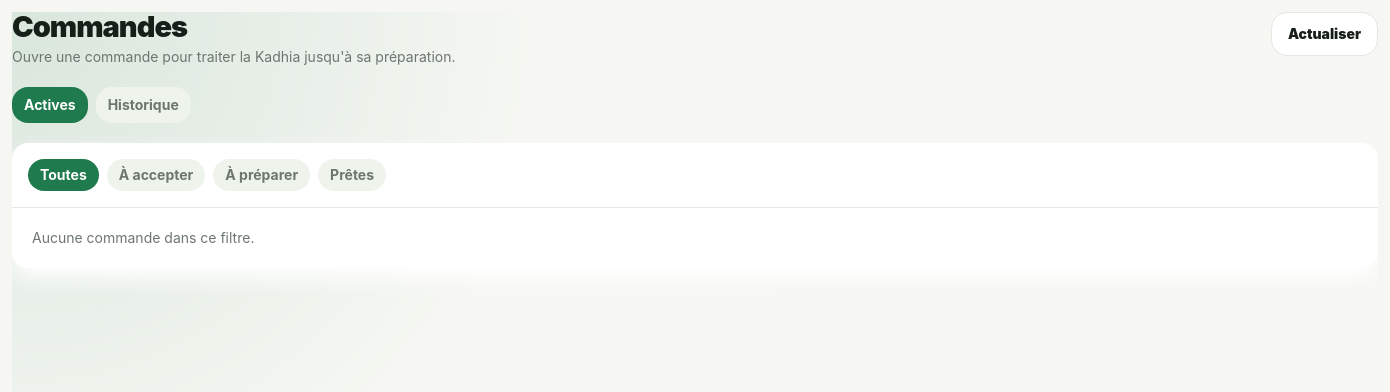
MerchantOrdersPage › renders a dedicated history error
The image size is (1390, 392).
Click the tab "Historique".
click(143, 105)  # box [96,87,191,123]
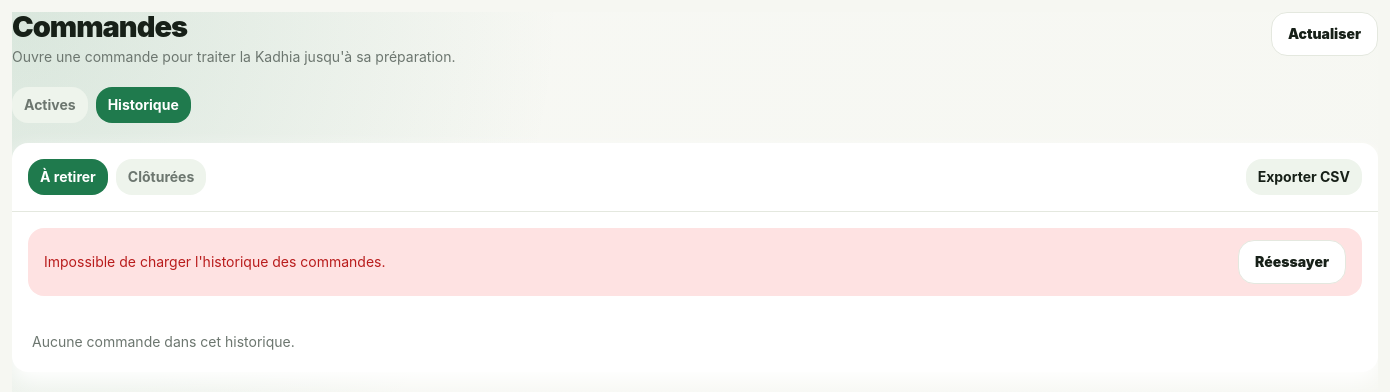
Result: the text "Impossible de charger l'historique des commandes." is shown at [44,252,386,272]
